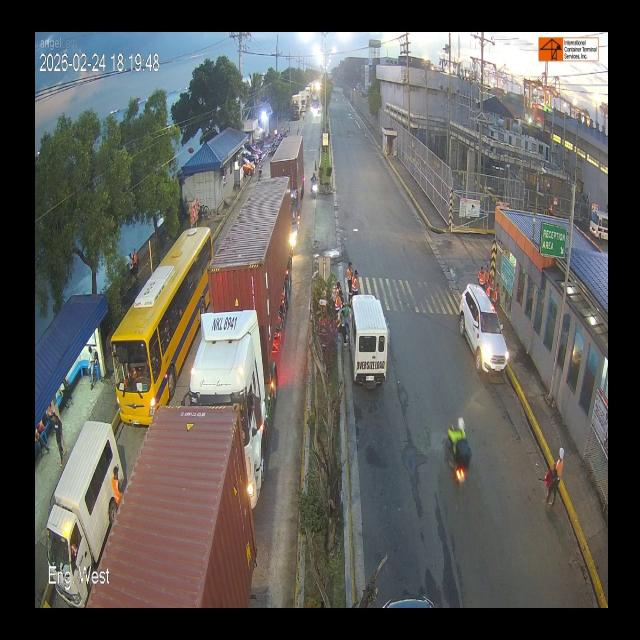bus: (102, 214, 222, 428)
car: (28, 441, 124, 555), (459, 276, 509, 404), (345, 290, 389, 386)
motorcycle: (438, 402, 478, 500)
truck: (182, 176, 298, 516), (270, 126, 312, 247), (289, 92, 301, 126), (311, 92, 321, 120)
